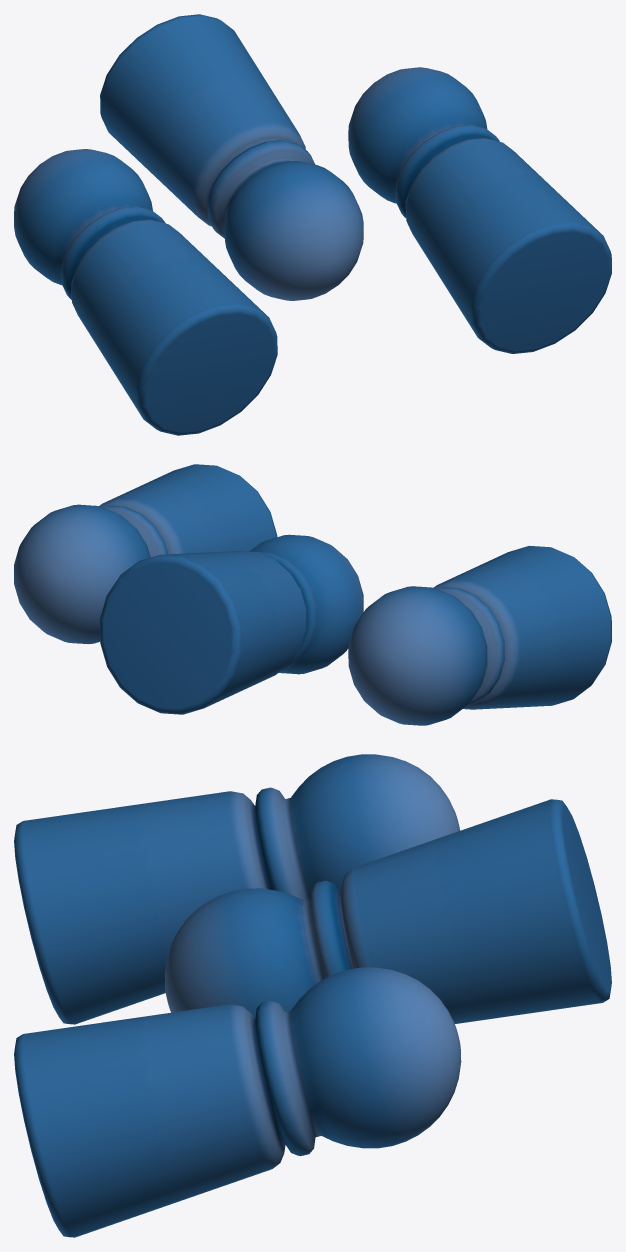
The model's file is YutNori_PieceDummy.fbx.
The picture shows the model from 3 angles, top to bottom: view 1: azimuth 30°, elevation 25°; view 2: azimuth 150°, elevation 25°; view 3: azimuth 270°, elevation 25°; orthographic projection. The views are drawn at different scales.
Parts seen in each view (by area): view 1: YutNori_PieceBlue8, YutNori_PieceBlue9, YutNori_PieceBlue7; view 2: YutNori_PieceBlue9, YutNori_PieceBlue7, YutNori_PieceBlue8; view 3: YutNori_PieceBlue8, YutNori_PieceBlue7, YutNori_PieceBlue9.
Part boxes in pixels (box(x1,y1,x2,y2)): YutNori_PieceBlue8: box(348, 67, 611, 353); YutNori_PieceBlue9: box(14, 149, 277, 435); YutNori_PieceBlue7: box(100, 14, 363, 300); YutNori_PieceBlue9: box(348, 545, 611, 725); YutNori_PieceBlue7: box(100, 534, 363, 714); YutNori_PieceBlue8: box(14, 464, 277, 644); YutNori_PieceBlue8: box(14, 967, 461, 1237); YutNori_PieceBlue7: box(164, 799, 611, 1023); YutNori_PieceBlue9: box(14, 754, 459, 1024).
Size of the model in its own units: 5.17 by 2.5 by 4.32.
